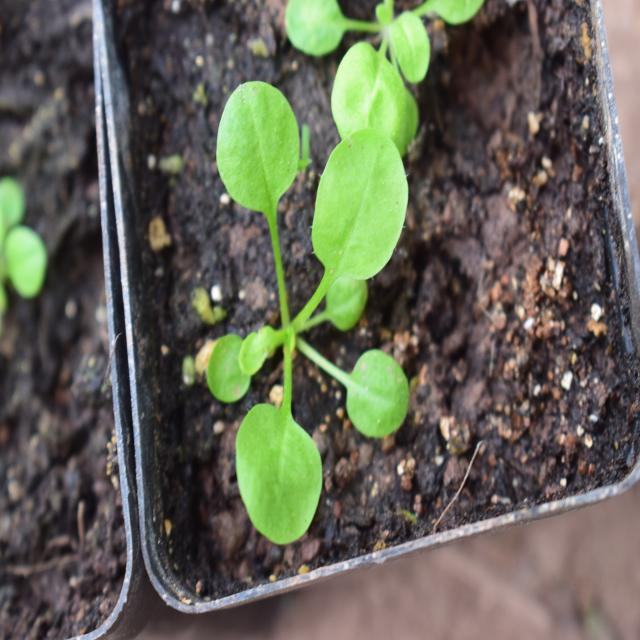Shepherd_Purse: (178, 67, 424, 553)
